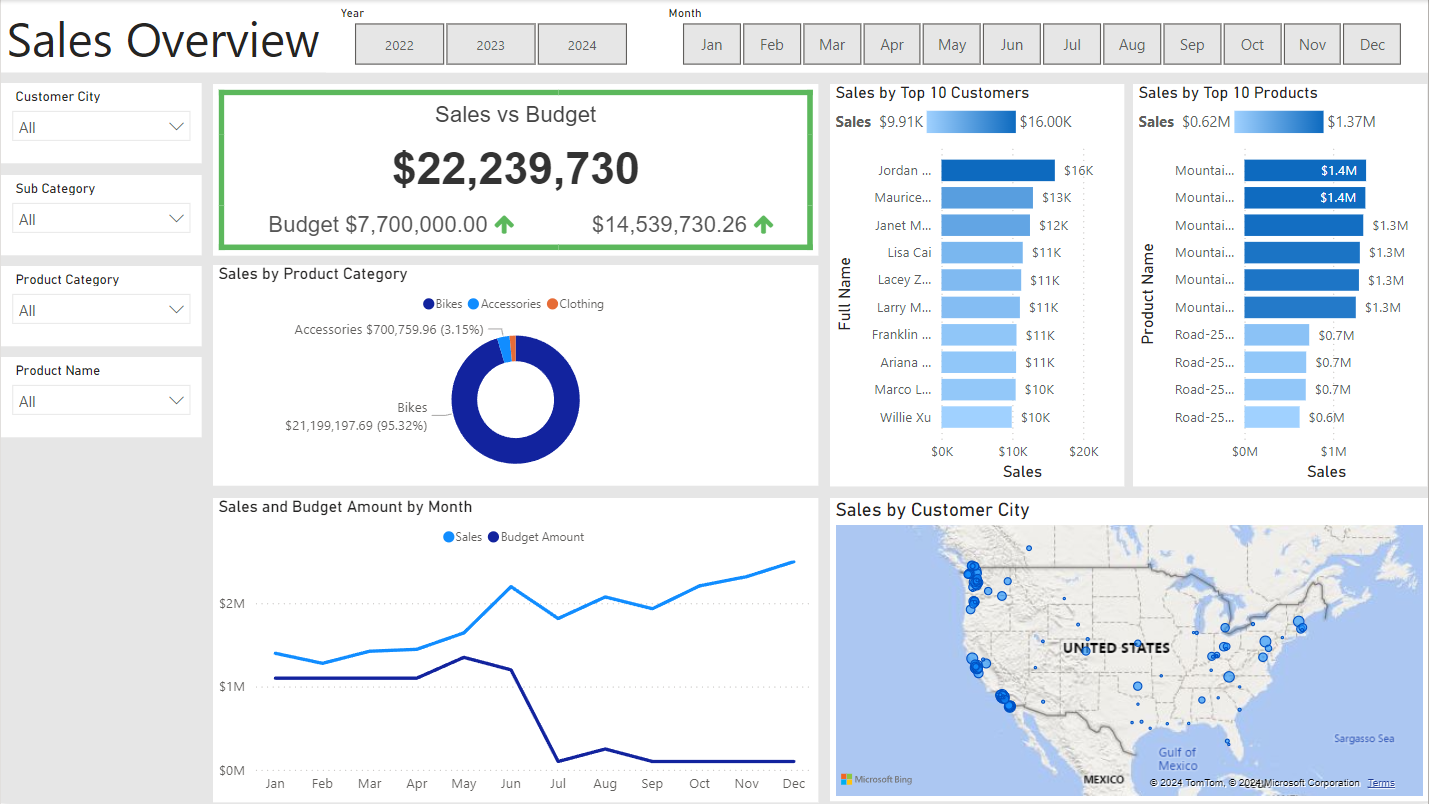

This screenshot's page, from the dashboard's own definition file:
{"tool":"powerbi","page":{"name":"Sales Overview","canvas":[1280,720],"ordinal":0},"visuals":[{"type":"textbox","box":[0,0,1280,65.2],"z":0},{"type":"slicer","fields":{"Values":["DIM_Customers.Customer City"]},"box":[0,74.9,179.9,72],"z":1000},{"type":"slicer","fields":{"Values":["DIM_Products.Sub Category"]},"box":[0,156.6,179.9,72],"z":2000},{"type":"slicer","fields":{"Values":["DIM_Products.Product Category"]},"box":[0,238.3,179.9,72],"z":3000},{"type":"slicer","fields":{"Values":["DIM_Products.Product Name"]},"box":[0,320,179.9,72],"z":4000},{"type":"slicer","fields":{"Values":["DIM_Calendar.Year"]},"box":[291.8,0,293.8,65.1],"z":5000},{"type":"slicer","fields":{"Values":["DIM_Calendar.MonthShort"]},"box":[585.6,0,694.4,65.1],"z":6000},{"type":"BBED0A4D4D8D44CE93CF2DAFADEE466C","fields":{"actual":["Key Measures.Sales"],"target1":["Key Measures.Budget Amount"],"target2":["Key Measures.Sales - Budget"]},"box":[190.1,75.2,542.9,153.5],"z":7000},{"type":"donutChart","fields":{"Category":["DIM_Products.Product Category"],"Y":["Key Measures.Sales"]},"box":[190.1,237.9,542.9,198.3],"z":7001},{"type":"lineChart","title":"Sales and Budget Amount by Month","fields":{"Y":["Key Measures.Sales","Key Measures.Budget Amount"],"Category":["DIM_Calendar.MonthShort"]},"box":[190.1,446.3,542.9,273.5],"z":7002},{"type":"barChart","title":"Sales by Top 10 Customers","fields":{"Y":["Key Measures.Sales"],"Category":["DIM_Customers.Full Name"]},"box":[743.2,75.2,264.3,360.9],"z":7003},{"type":"barChart","title":"Sales by Top 10 Products","fields":{"Y":["Key Measures.Sales"],"Category":["DIM_Products.Product Name"]},"box":[1015.7,75.2,264.3,360.9],"z":7004},{"type":"map","fields":{"Category":["DIM_Customers.Customer City"],"Size":["Key Measures.Sales"]},"box":[743.2,446.3,536.8,272.5],"z":7005}]}

Visuals, with their boxes in screenshot pixels (x1, y1, x2, y2), scaled from the page's 1280x720 canvas onto the 1429x804 screenshot:
textbox: [x1=0, y1=0, x2=1428, y2=73]
slicer - DIM_Customers.Customer City: [x1=0, y1=84, x2=201, y2=164]
slicer - DIM_Products.Sub Category: [x1=0, y1=175, x2=201, y2=255]
slicer - DIM_Products.Product Category: [x1=0, y1=266, x2=201, y2=347]
slicer - DIM_Products.Product Name: [x1=0, y1=357, x2=201, y2=438]
slicer - DIM_Calendar.Year: [x1=326, y1=0, x2=654, y2=73]
slicer - DIM_Calendar.MonthShort: [x1=654, y1=0, x2=1428, y2=73]
BBED0A4D4D8D44CE93CF2DAFADEE466C - Key Measures.Sales x Key Measures.Budget Amount: [x1=212, y1=84, x2=818, y2=255]
donutChart - DIM_Products.Product Category x Key Measures.Sales: [x1=212, y1=266, x2=818, y2=487]
"Sales and Budget Amount by Month" lineChart: [x1=212, y1=498, x2=818, y2=803]
"Sales by Top 10 Customers" barChart: [x1=830, y1=84, x2=1125, y2=487]
"Sales by Top 10 Products" barChart: [x1=1134, y1=84, x2=1428, y2=487]
map - DIM_Customers.Customer City x Key Measures.Sales: [x1=830, y1=498, x2=1428, y2=803]
